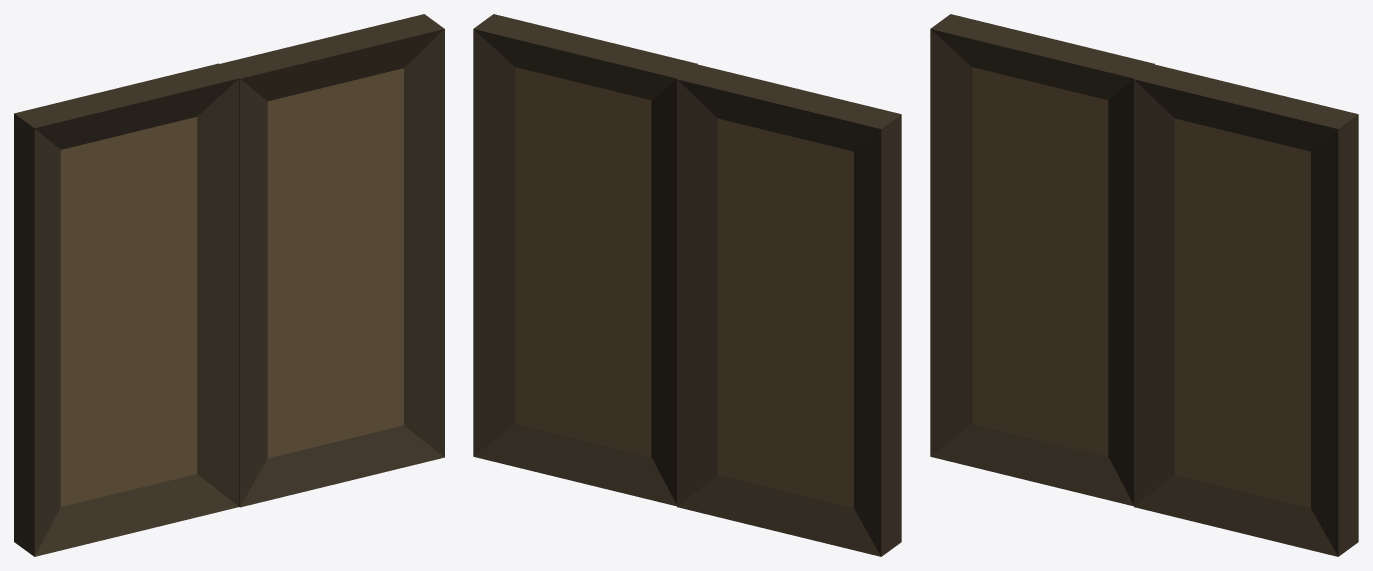
Rendered from roman_window_shutters_1.fbx.
The picture shows the model from 3 angles, left to right: view 1: azimuth 30°, elevation 25°; view 2: azimuth 150°, elevation 25°; view 3: azimuth 330°, elevation 25°; orthographic projection.
Visible parts, largest first — view 1: Cube.068, Cube.069; view 2: Cube.068, Cube.069; view 3: Cube.069, Cube.068.
Boxes of the visible parts, left/top/right/bottom form: Cube.068: left=14, top=63, right=239, bottom=556; Cube.069: left=220, top=14, right=444, bottom=507; Cube.068: left=677, top=64, right=901, bottom=556; Cube.069: left=473, top=14, right=697, bottom=506; Cube.069: left=1134, top=64, right=1358, bottom=556; Cube.068: left=930, top=14, right=1154, bottom=506.
Bounding box in the file's own units: 1.2 × 1.2 × 0.1072.
